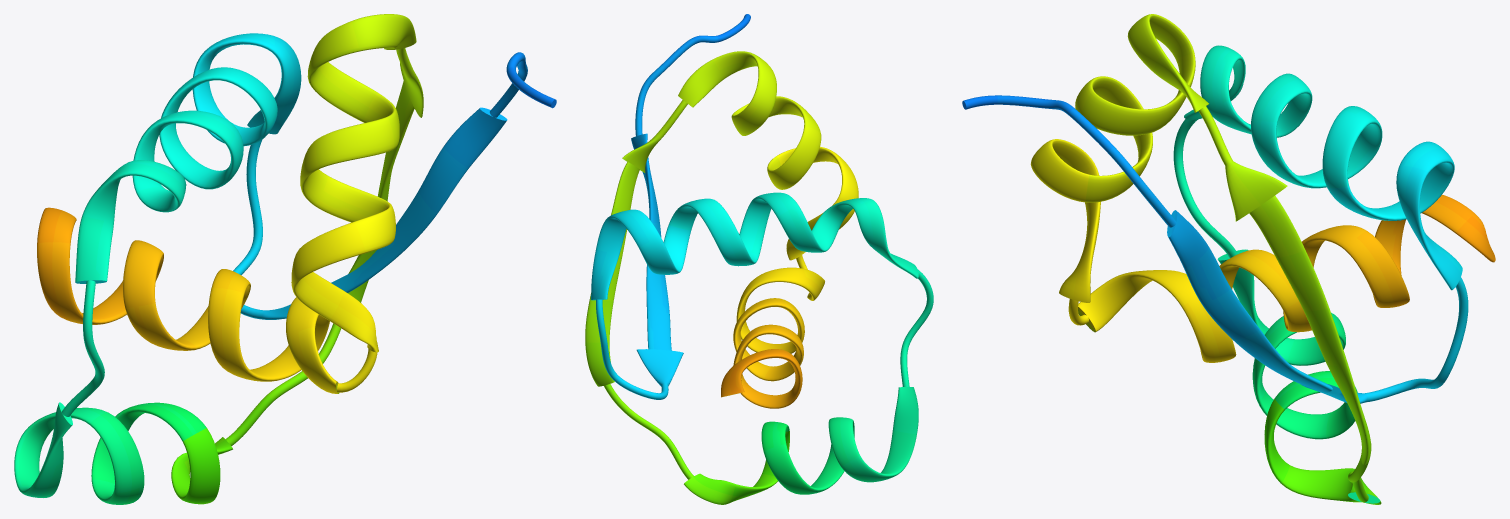
File: knot.glb
The picture shows the model from 3 angles, left to right: view 1: azimuth 30°, elevation 25°; view 2: azimuth 150°, elevation 25°; view 3: azimuth 270°, elevation 25°; orthographic projection. The views are drawn at different scales.
Parts seen in each view (by area): view 1: subnode_4, subnode_1, subnode_2, subnode_0; view 2: subnode_1, subnode_2, subnode_0, subnode_4; view 3: subnode_2, subnode_4, subnode_1, subnode_0, subnode_3.
Boxes of the visible parts, left/top/right/bottom form: subnode_4: left=37, top=203, right=395, bottom=393; subnode_1: left=14, top=67, right=277, bottom=504; subnode_2: left=171, top=14, right=423, bottom=504; subnode_0: left=192, top=33, right=554, bottom=319; subnode_1: left=669, top=192, right=933, bottom=494; subnode_2: left=585, top=51, right=821, bottom=504; subnode_0: left=591, top=14, right=750, bottom=399; subnode_4: left=721, top=146, right=858, bottom=408; subnode_2: left=1075, top=14, right=1381, bottom=504; subnode_4: left=1030, top=139, right=1495, bottom=362; subnode_1: left=1173, top=45, right=1382, bottom=439; subnode_0: left=963, top=95, right=1468, bottom=403; subnode_3: left=962, top=101, right=1380, bottom=503.
Size of the model in its own units: 26.55 by 30.76 by 28.51.
